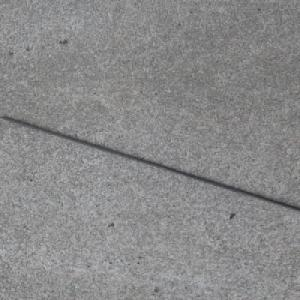LuggagePart: (0, 115, 300, 212)
